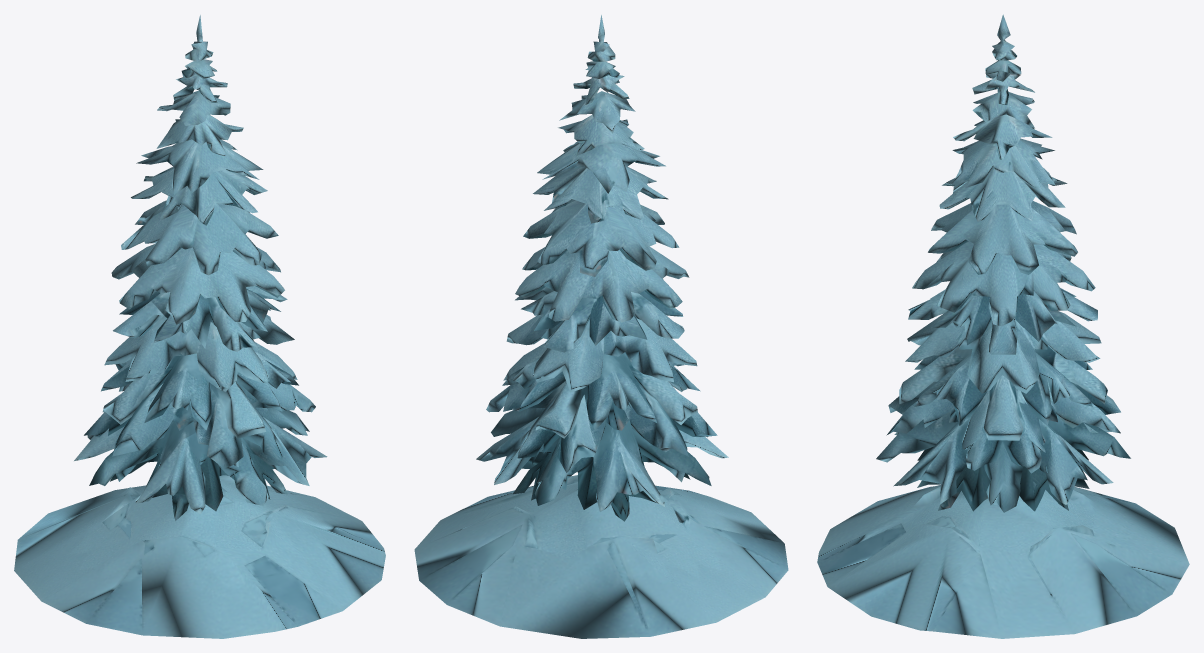
Rendered from snow_pine.glb.
3 views of the same model, side by side, from view 1: azimuth 30°, elevation 25°; view 2: azimuth 150°, elevation 25°; view 3: azimuth 270°, elevation 25° (orthographic).
Size of the model in its own units: 1.17 by 1.9 by 1.17.
Materials: 1 (1 with a texture image).
